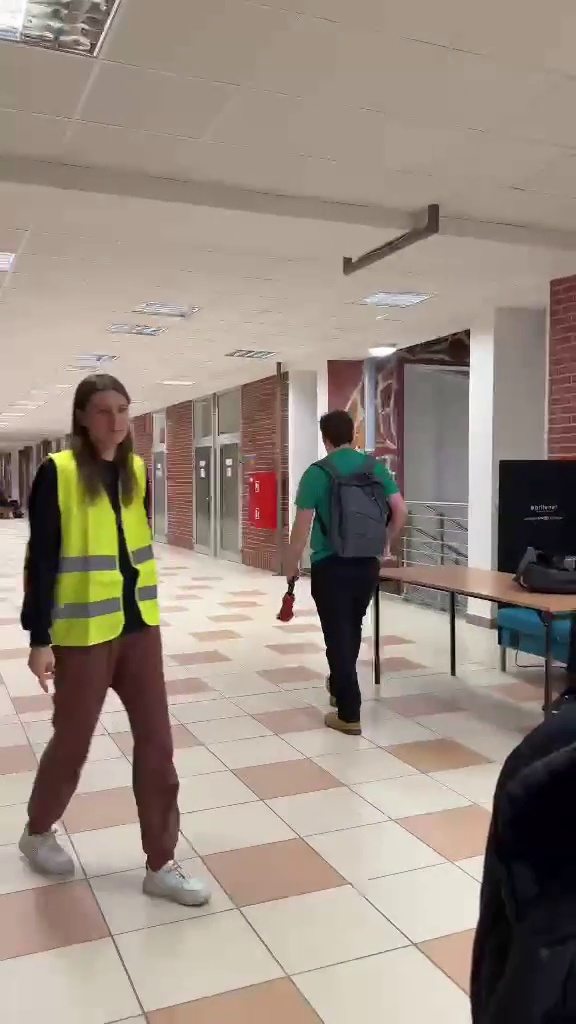no vest: (279, 404, 412, 739)
vest: (24, 369, 218, 908)
